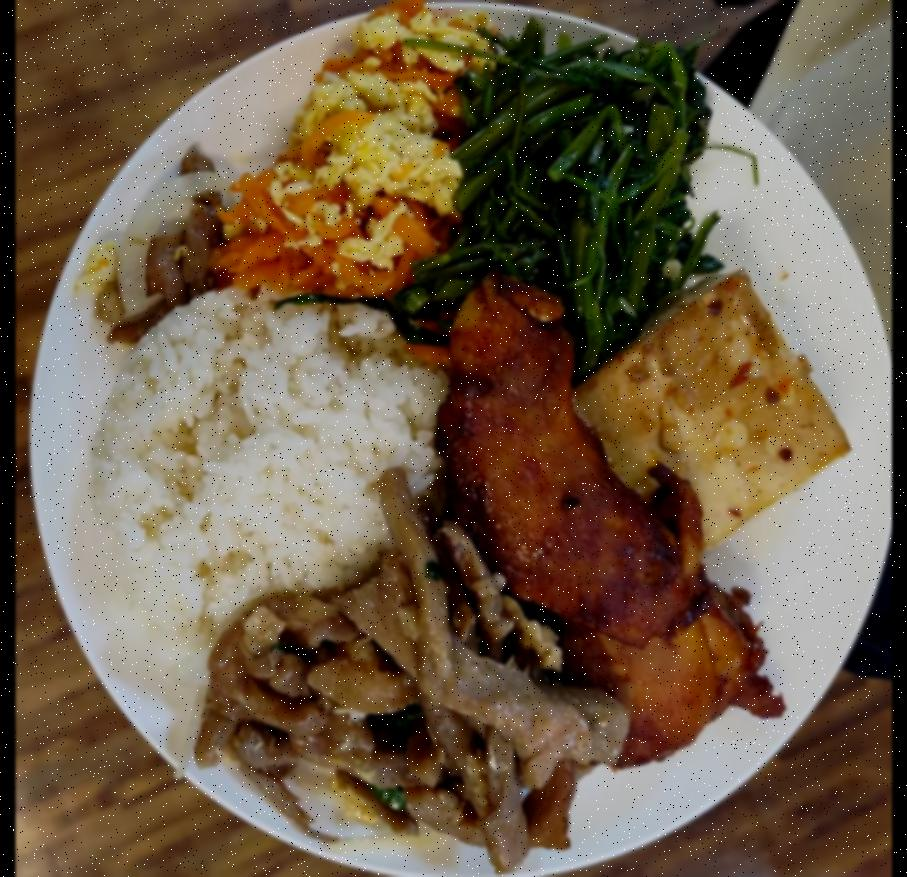big fried chicken leg: (25, 3, 892, 877)
big herbal chicken leg: (98, 285, 444, 624)
braised fish fillet: (443, 34, 710, 362), (576, 270, 856, 556), (219, 23, 482, 304)
braised pork: (434, 284, 760, 764), (202, 516, 638, 862)
